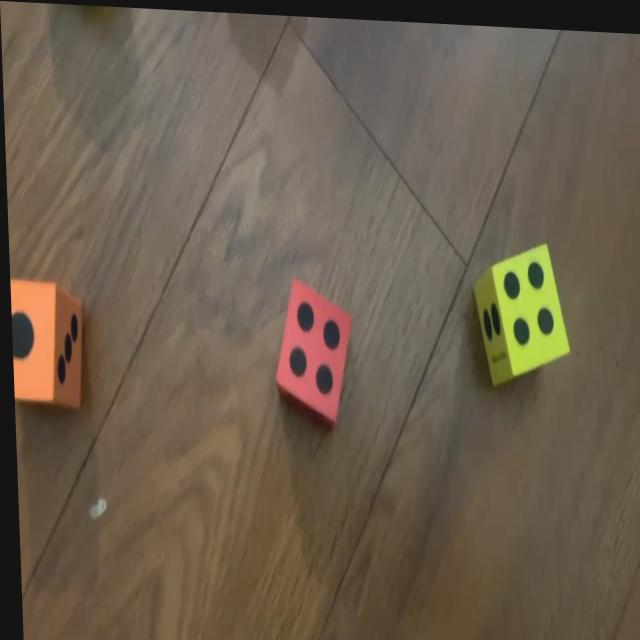red_block: (271, 276, 353, 418)
